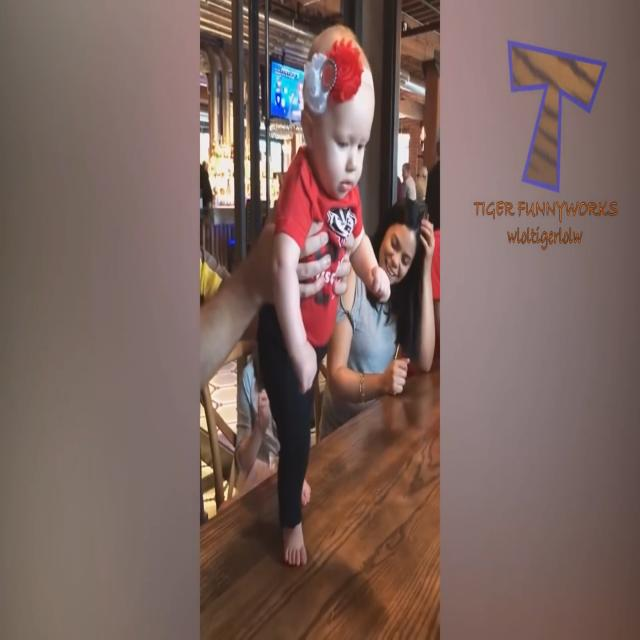safe: (265, 22, 373, 536)
